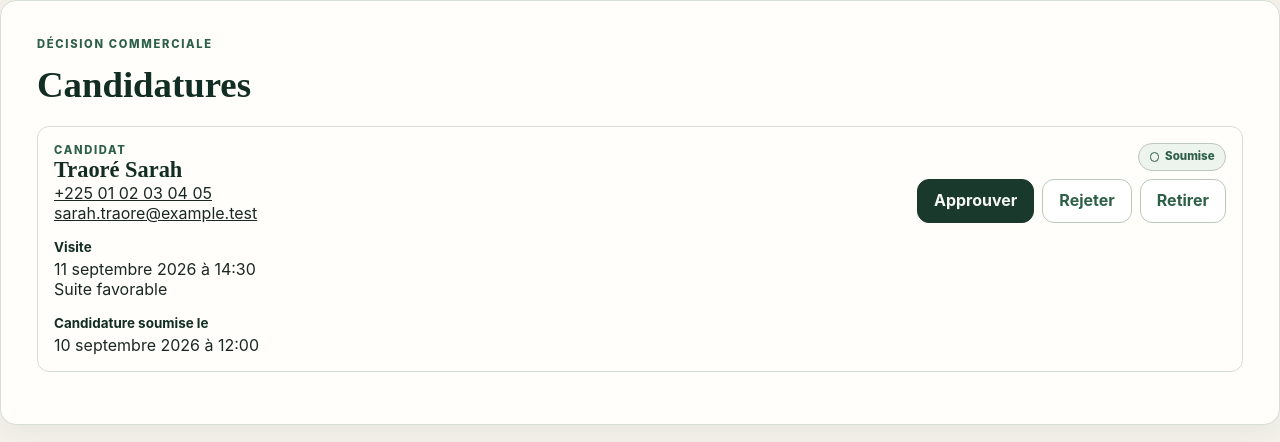
Test: Candidatures › affiche les informations métier sans identifiants techniques et conserve les actions
The width and height of the screenshot is (1280, 442).
Expected: the heading "Traoré Sarah" is shown, [54,157,182,182]
Expected: the link "sarah.traore@example.test" is shown, [54,203,257,223]
Click the button "Approuver". click: [976, 201]
box: [917,179,1034,223]
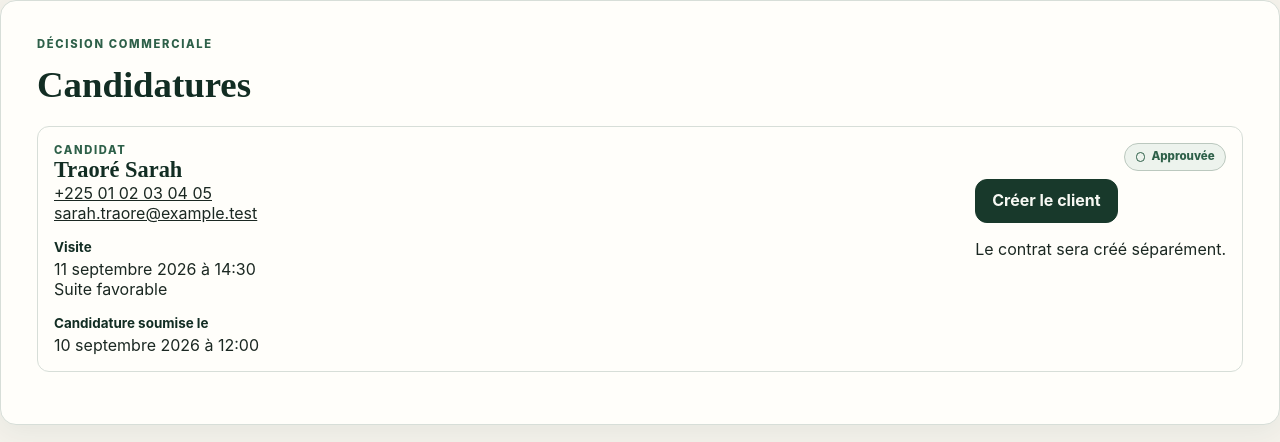
Expected: the heading "Traoré Sarah" is shown, [54,157,182,182]
Expected: the text "Approuvée" is shown, [1124,143,1226,171]
Expected: the button "Rejeter" is gone
